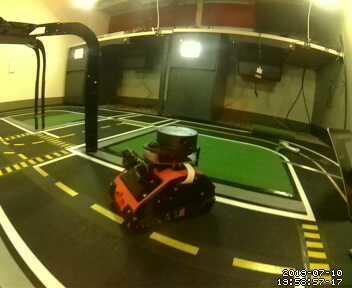pheeno: (107, 118, 217, 237)
